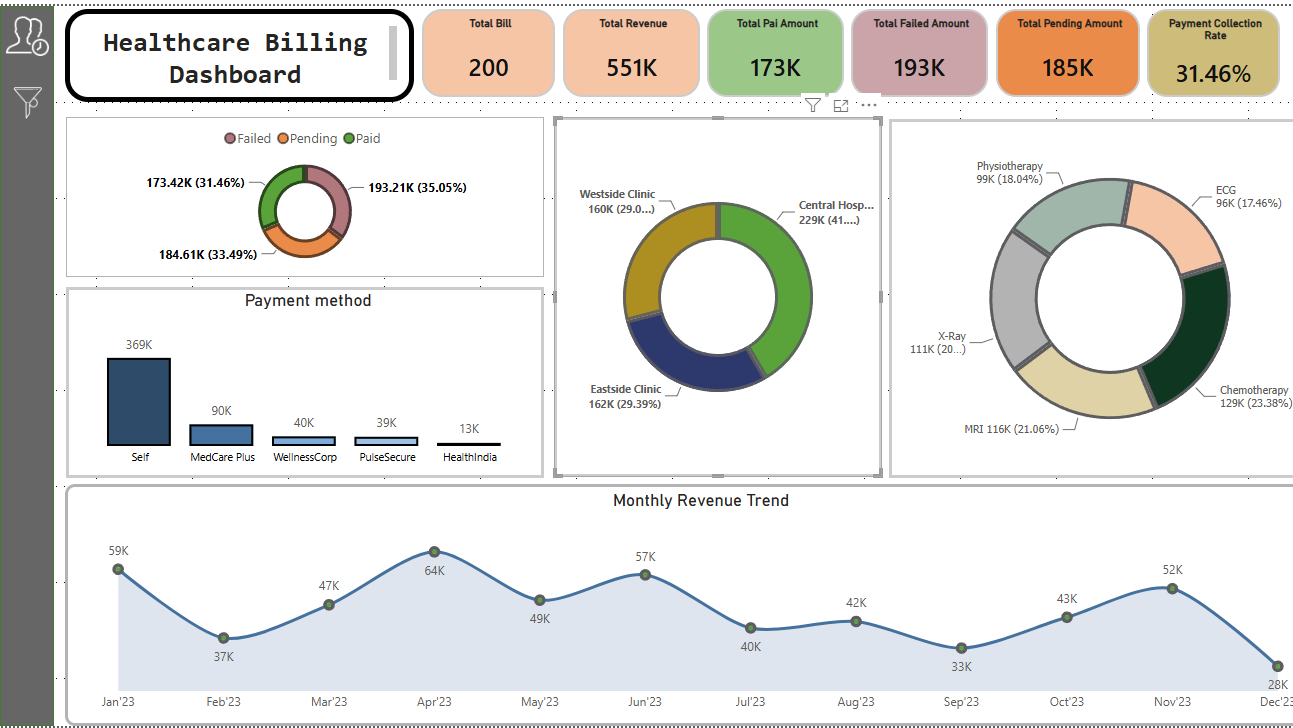

The page's visual inventory and layout, read from the dashboard file:
{"tool":"powerbi","page":{"name":"Billing","canvas":[1340,720],"ordinal":0},"visuals":[{"type":"cardVisual","title":"Total Revenue","fields":{"Data":["Measure Table.Revenue"]},"box":[562.8,3,137.2,87.8],"z":0},{"type":"cardVisual","title":"Total Bill","fields":{"Data":["Measure Table.Total Bill"]},"box":[421.6,3,133.1,87.8],"z":1000},{"type":"cardVisual","title":"Total Pai Amount","fields":{"Data":["Measure Table.Paid amount"]},"box":[707.1,3,137.2,87.8],"z":5000},{"type":"cardVisual","title":"Total Pending Amount","fields":{"Data":["Measure Table.Pending amount"]},"box":[995.6,3,144.2,87.8],"z":6000},{"type":"cardVisual","title":"Total Failed Amount","fields":{"Data":["Measure Table.Failed amount"]},"box":[851.3,3,137.2,87.8],"z":7000},{"type":"cardVisual","title":"Payment Collection Rate","fields":{"Data":["Measure Table.Collection Rate"]},"box":[1146.9,3,133.1,87.8],"z":8000},{"type":"lineChart","title":"Monthly Revenue Trend","fields":{"Y":["Measure Table.Revenue"],"Category":["billing.MONTH"]},"box":[65,477.5,1266.2,242.5],"z":9000},{"type":"donutChart","fields":{"Category":["billing.payment_status"],"Y":["Sum(billing.amount)"]},"box":[65.6,111.1,478.9,160],"z":10000},{"type":"columnChart","title":"Payment method","fields":{"Y":["Sum(billing.amount)"],"Category":["billing.Payment Mode"]},"box":[65.6,281.1,478.9,191.1],"z":11000},{"type":"donutChart","title":"Branch Wise Payment","fields":{"Category":["billing.Branch"],"Y":["Sum(billing.amount)"]},"box":[554.4,111.1,327.8,360],"z":12000},{"type":"donutChart","title":"Branch Wise Payment","fields":{"Category":["billing.Treatment"],"Y":["Sum(billing.amount)"]},"box":[888,112,443.8,360.1],"z":13000},{"type":"shape","box":[0,0,53.8,720],"z":14000},{"type":"textbox","box":[66,3,349,93],"z":15000},{"type":"actionButton","box":[0,3,54,51],"z":16000},{"type":"actionButton","box":[0,62,54,67],"z":17000}]}

Visuals, with their boxes on the page's 1340x720 design canvas (x1, y1, x2, y2). These are canvas units, not pixel positions in the 1293x728 screenshot, which may show the page scaled, cropped or inside an application window:
"Total Revenue" cardVisual: left=563, top=3, right=700, bottom=91
"Total Bill" cardVisual: left=422, top=3, right=555, bottom=91
"Total Pai Amount" cardVisual: left=707, top=3, right=844, bottom=91
"Total Pending Amount" cardVisual: left=996, top=3, right=1140, bottom=91
"Total Failed Amount" cardVisual: left=851, top=3, right=988, bottom=91
"Payment Collection Rate" cardVisual: left=1147, top=3, right=1280, bottom=91
"Monthly Revenue Trend" lineChart: left=65, top=478, right=1331, bottom=720
donutChart - billing.payment_status x Sum(billing.amount): left=66, top=111, right=544, bottom=271
"Payment method" columnChart: left=66, top=281, right=544, bottom=472
"Branch Wise Payment" donutChart: left=554, top=111, right=882, bottom=471
"Branch Wise Payment" donutChart: left=888, top=112, right=1332, bottom=472
shape: left=0, top=0, right=54, bottom=720
textbox: left=66, top=3, right=415, bottom=96
actionButton: left=0, top=3, right=54, bottom=54
actionButton: left=0, top=62, right=54, bottom=129
